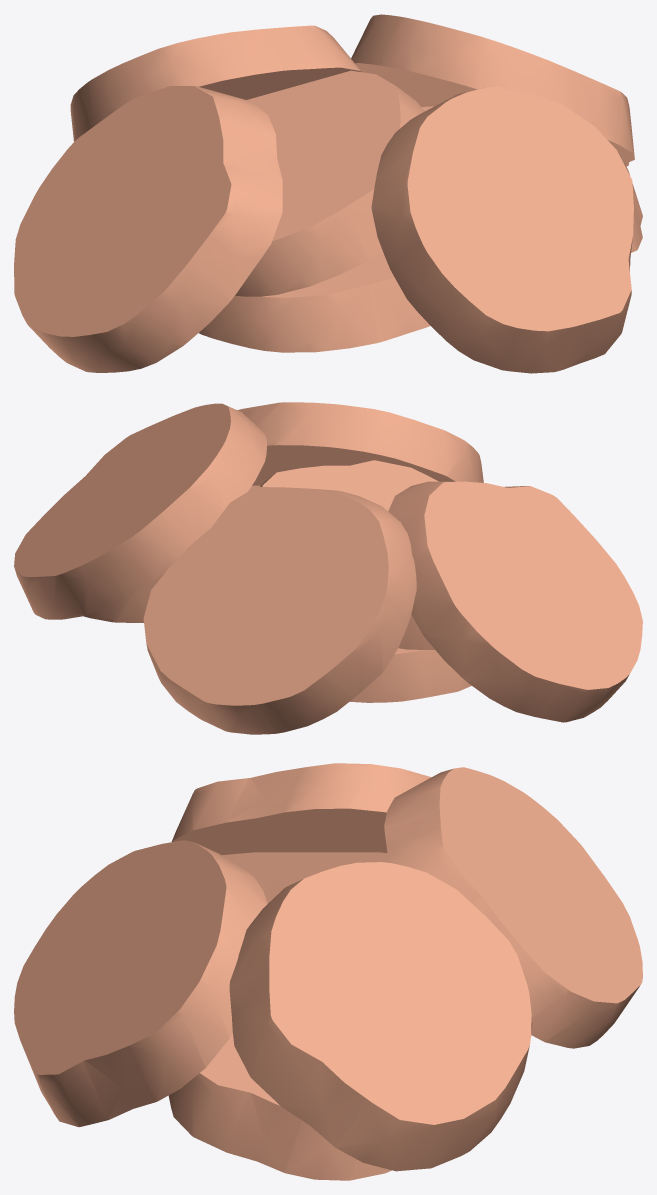
Rendered from potato_sliced.fbx.
3 renders of one model, top to bottom at view 1: azimuth 30°, elevation 25°; view 2: azimuth 150°, elevation 25°; view 3: azimuth 270°, elevation 25°, orthographic. The views are drawn at different scales.
Visible parts, largest first — view 1: PotatoB.003, PotatoB.001, PotatoB.002, PotatoB.005, PotatoB.004, PotatoB, PotatoB.006; view 2: PotatoB.004, PotatoB.001, PotatoB.005, PotatoB.003, PotatoB.002, PotatoB, PotatoB.006; view 3: PotatoB.005, PotatoB.003, PotatoB.004, PotatoB.001, PotatoB.006, PotatoB.002.
Boxes of the visible parts, x1,y1,x2,y2 form: PotatoB.003: (371,86,633,373); PotatoB.001: (14,86,282,372); PotatoB.002: (235,70,424,296); PotatoB.005: (351,14,634,166); PotatoB.004: (70,25,361,141); PotatoB: (199,251,430,352); PotatoB.006: (422,106,642,252); PotatoB.004: (143,487,416,734); PotatoB.001: (388,481,642,722); PotatoB.005: (14,403,266,619); PotatoB.003: (237,402,483,485); PotatoB.002: (260,460,438,649); PotatoB: (350,648,471,702); PotatoB.006: (83,485,260,622); PotatoB.005: (229,862,532,1171); PotatoB.003: (14,840,267,1127); PotatoB.004: (384,767,642,1048); PotatoB.001: (171,763,431,855); PotatoB.006: (168,1033,391,1180); PotatoB.002: (222,852,388,903).
Bounding box in the file's own units: 1330 × 487 × 1147.
